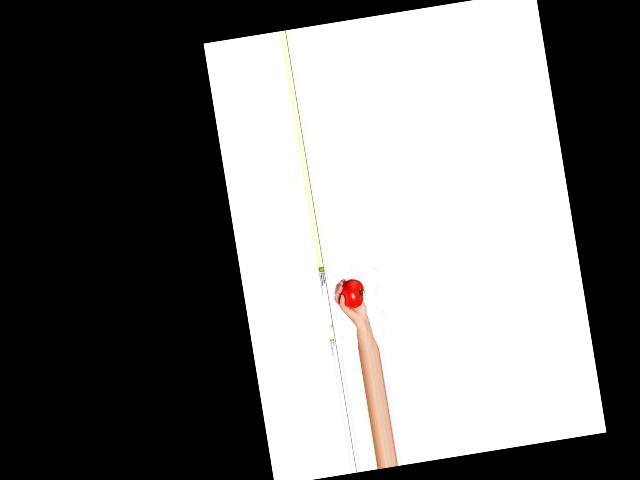tomato: (338, 278, 366, 310)
